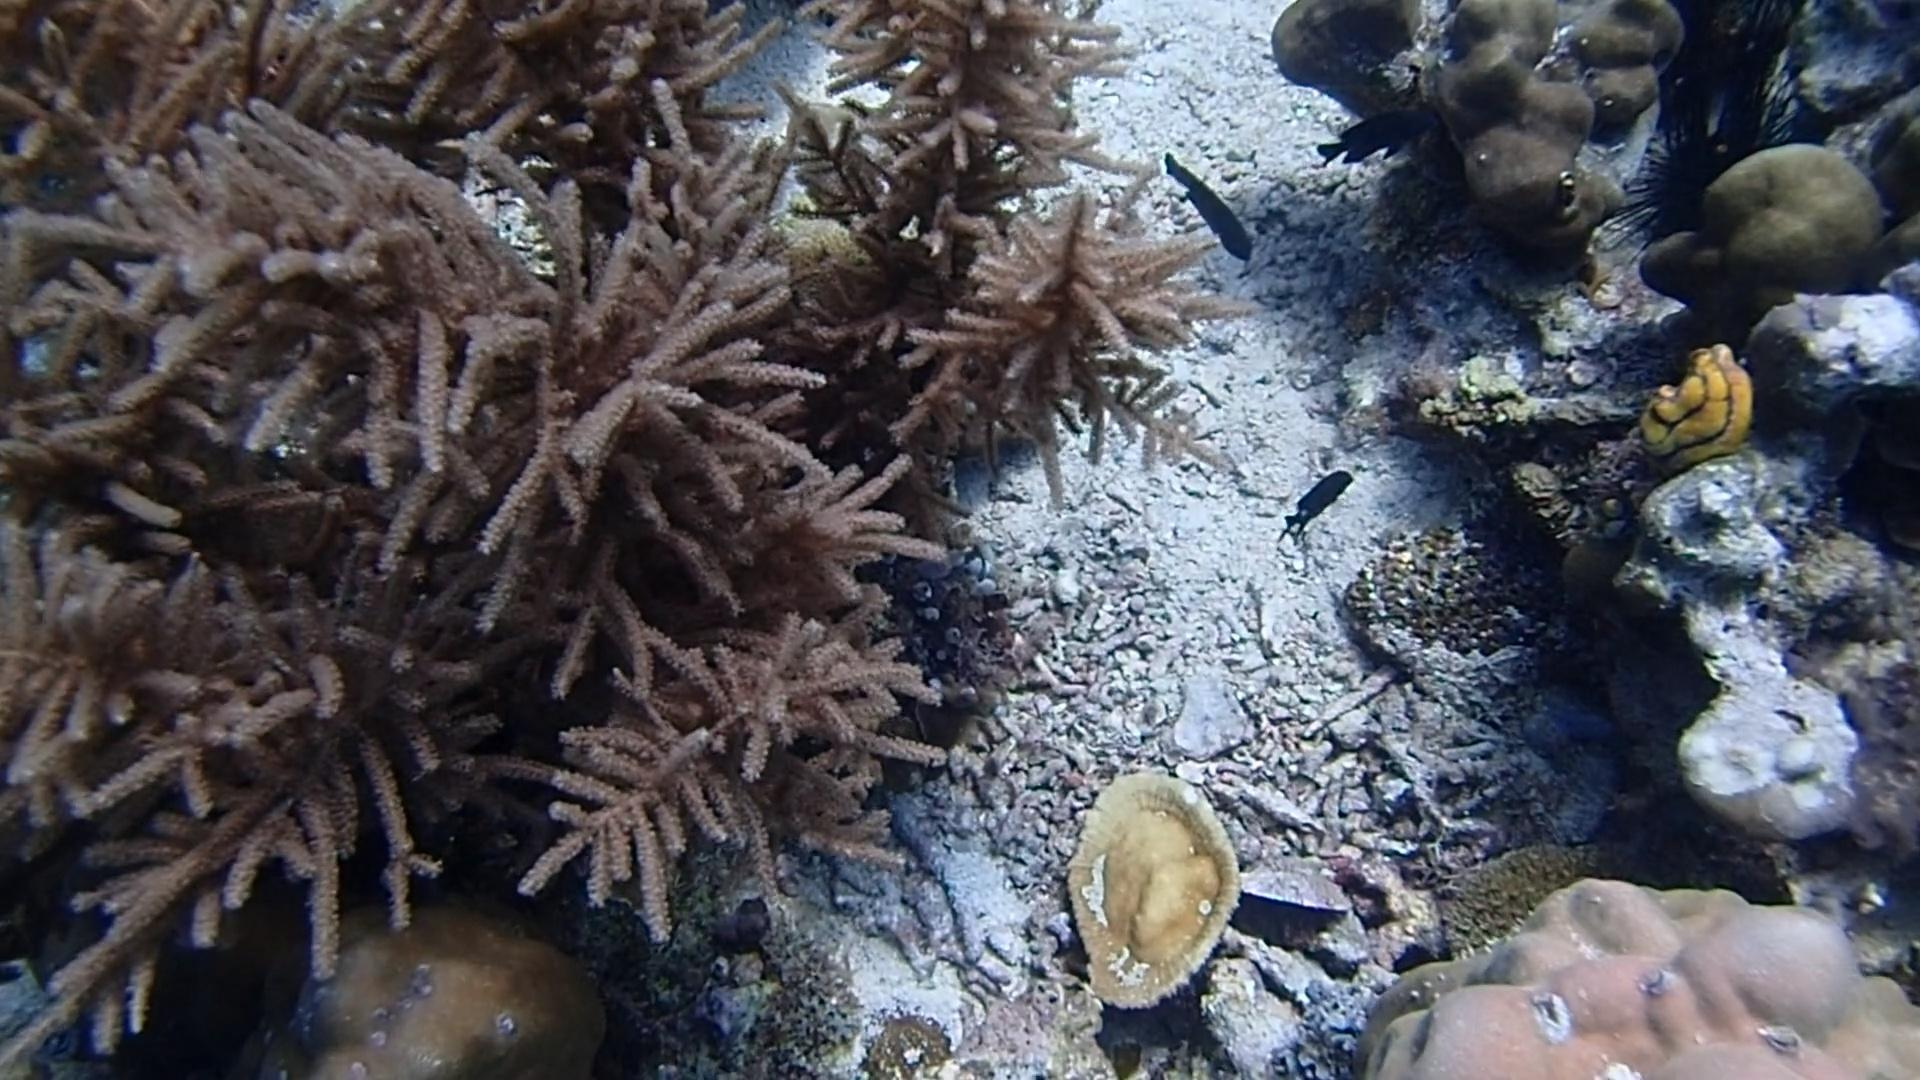Dark Fish: (1150, 144, 1263, 270), (1307, 95, 1433, 175), (1273, 460, 1364, 542)
